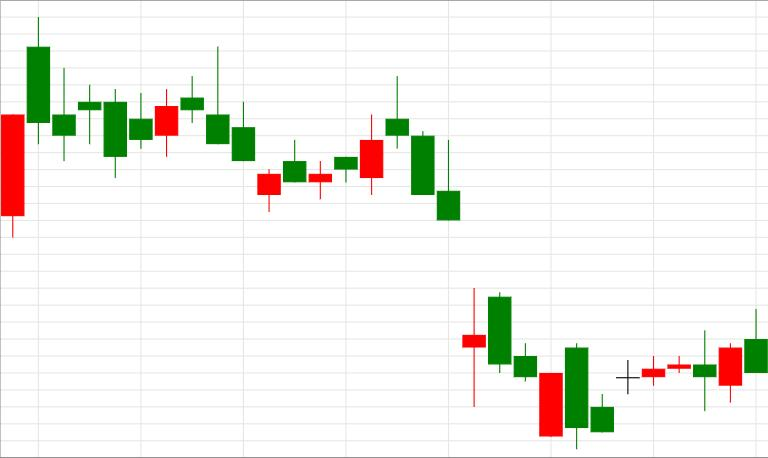evening_star_fall: (257, 76, 434, 213)
